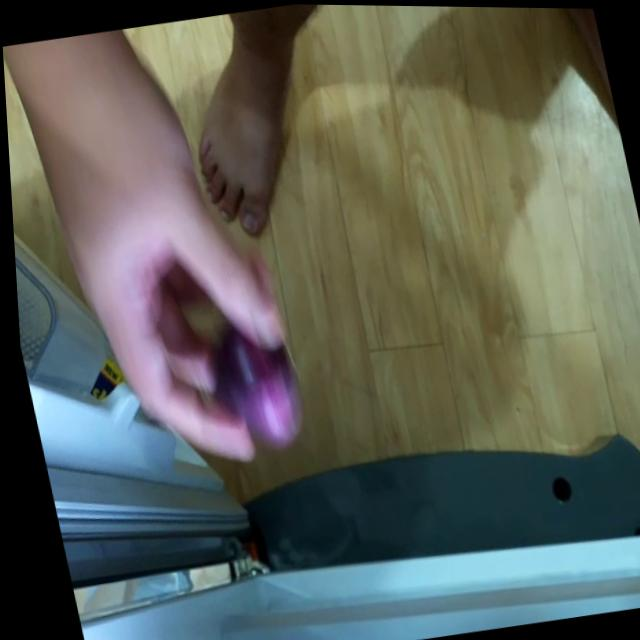onion: (175, 311, 311, 459)
